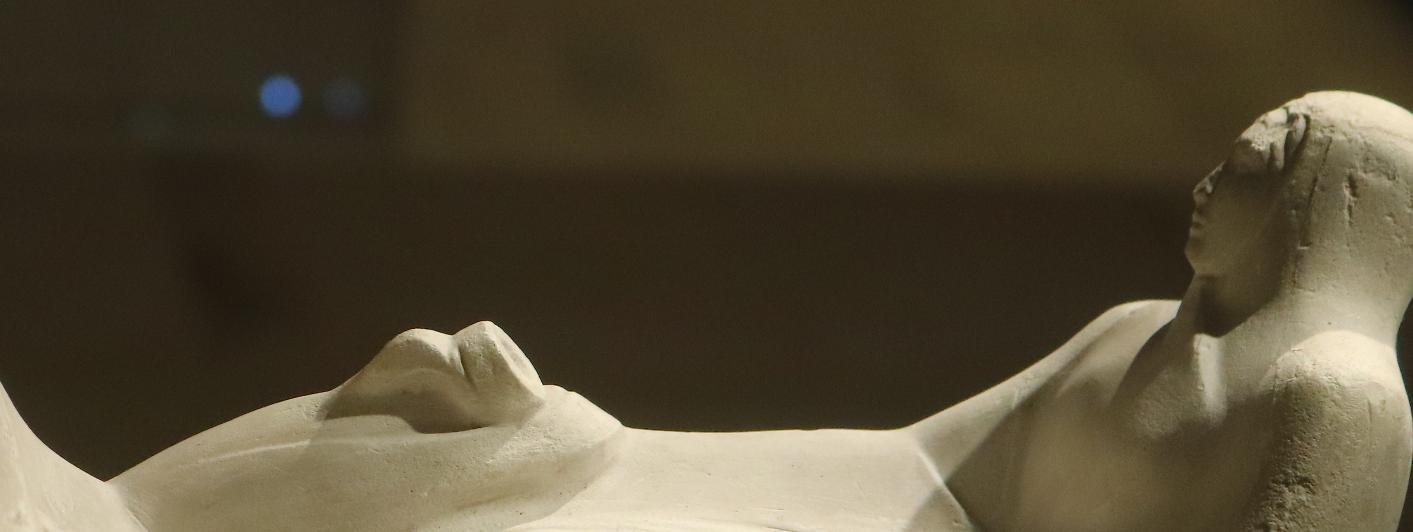the_female_peasent: (0, 0, 791, 532)
